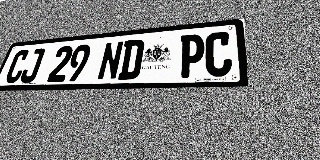2: (47, 45, 75, 82)
9: (64, 44, 92, 82)
C: (205, 31, 232, 77), (3, 49, 31, 83)
D: (117, 39, 145, 80)
J: (18, 48, 46, 83)
N: (96, 41, 124, 80)
P: (178, 33, 205, 78)
